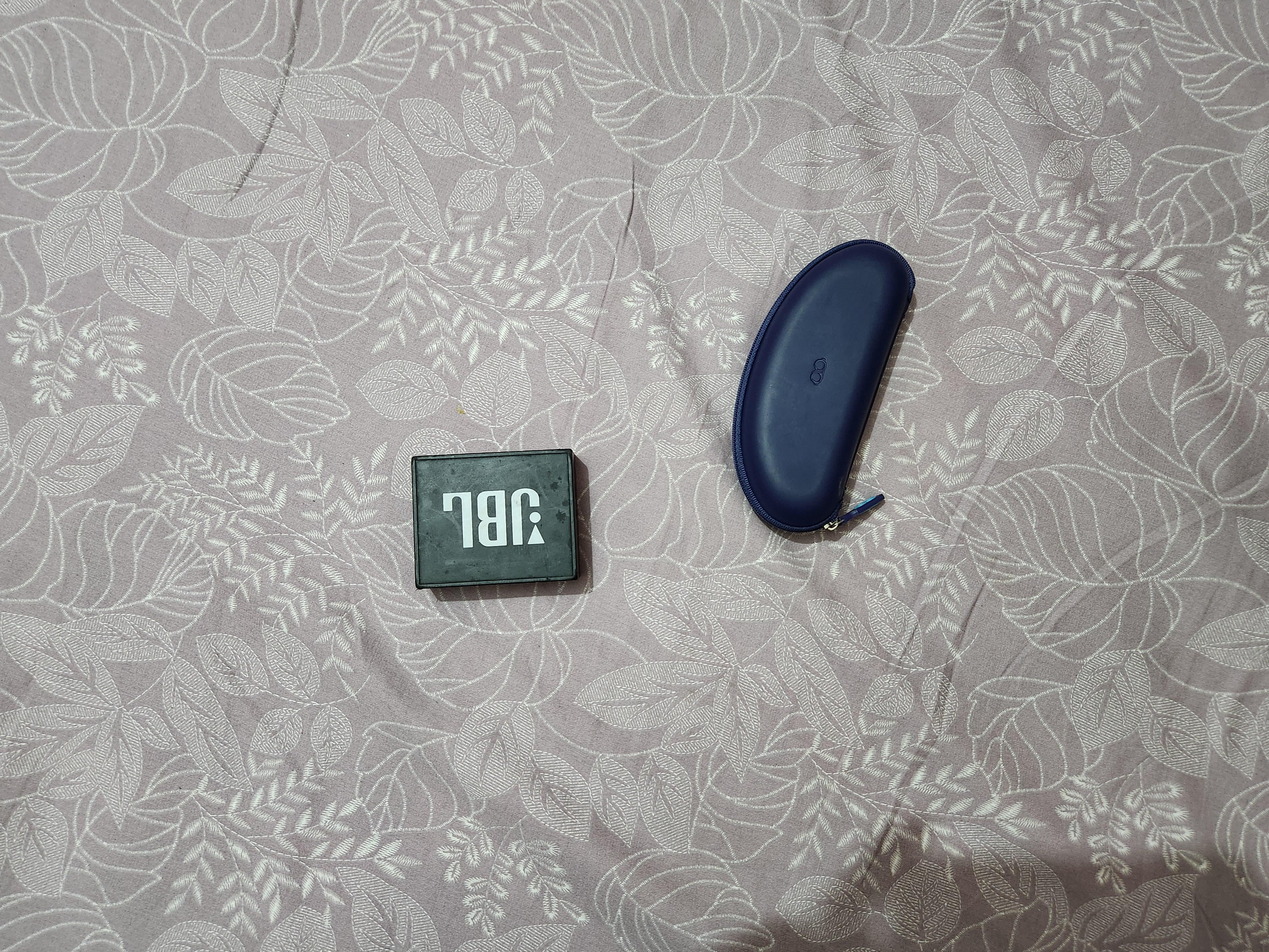case: (533, 545, 963, 692)
speaker: (470, 310, 685, 442)
